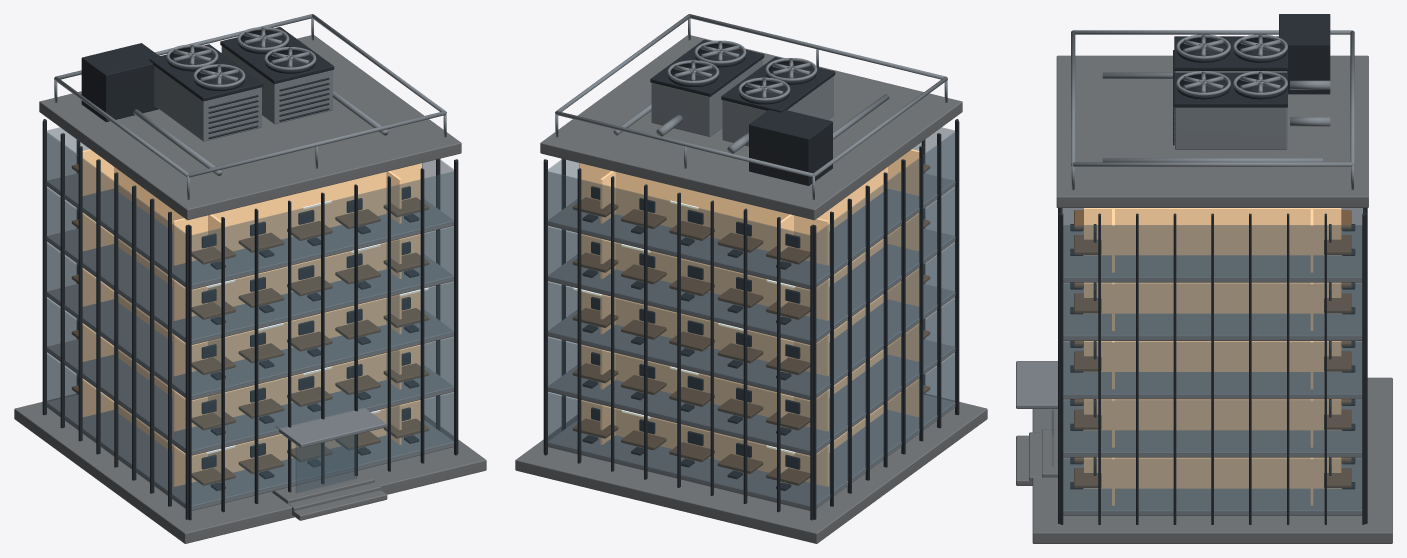
File: office.glb
3 views of the same model, side by side, from view 1: azimuth 30°, elevation 25°; view 2: azimuth 150°, elevation 25°; view 3: azimuth 270°, elevation 25° (orthographic). The views are drawn at different scales.
Visible parts, largest first — view 1: body_glass.007, body_steel.023, body_concrete.008, body_dark.022, body_window.003, body_wood.003, body_steel.024, body_dark.023, body_warm.016; view 2: body_glass.007, body_steel.023, body_concrete.008, body_dark.022, body_window.003, body_wood.003, body_steel.024, body_dark.023, body_warm.016; view 3: body_glass.007, body_steel.023, body_concrete.008, body_window.003, body_dark.022, body_steel.024, body_wood.003, body_dark.023.
Boxes of the visible parts, box(x1,y1,x2,y2) form: body_glass.007: box(46, 127, 453, 507); body_steel.023: box(46, 46, 453, 510); body_concrete.008: box(14, 35, 486, 543); body_dark.022: box(42, 27, 458, 520); body_window.003: box(82, 149, 421, 486); body_wood.003: box(71, 164, 429, 485); body_steel.024: box(54, 14, 446, 199); body_dark.023: box(167, 30, 315, 90); body_warm.016: box(206, 200, 428, 454); body_glass.007: box(548, 127, 955, 507); body_steel.023: box(548, 59, 955, 510); body_concrete.008: box(515, 35, 987, 543); body_dark.022: box(543, 39, 959, 520); body_window.003: box(580, 149, 919, 486); body_wood.003: box(572, 164, 930, 485); body_steel.024: box(555, 14, 947, 199); body_dark.023: box(668, 43, 816, 104); body_warm.016: box(573, 200, 795, 454); body_glass.007: box(1051, 209, 1364, 512); body_steel.023: box(1016, 71, 1362, 515); body_concrete.008: box(1016, 55, 1392, 543); body_window.003: box(1084, 208, 1341, 505); body_dark.022: box(1058, 14, 1367, 524); body_steel.024: box(1071, 30, 1354, 190); body_wood.003: box(1074, 210, 1351, 487); body_dark.023: box(1177, 38, 1287, 99).
Size of the model in its own units: 2 by 2.43 by 2.05.
